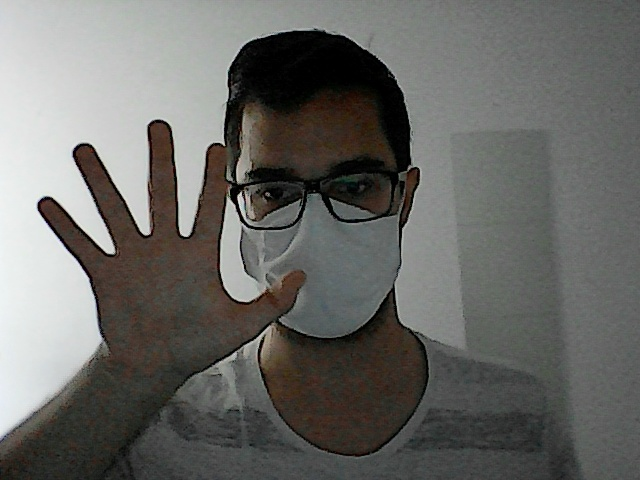jump: (30, 114, 312, 375)
